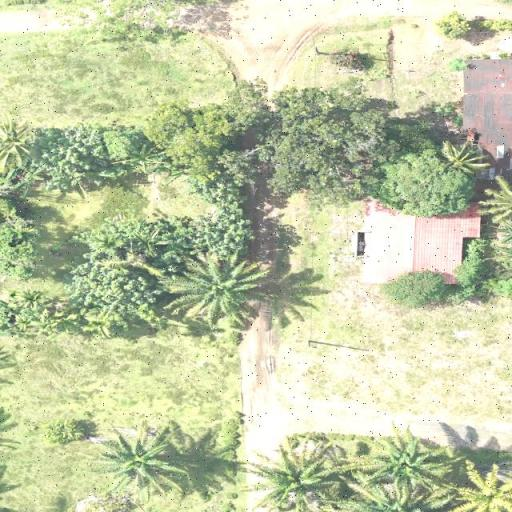Ganoderma: (463, 475, 512, 512)
